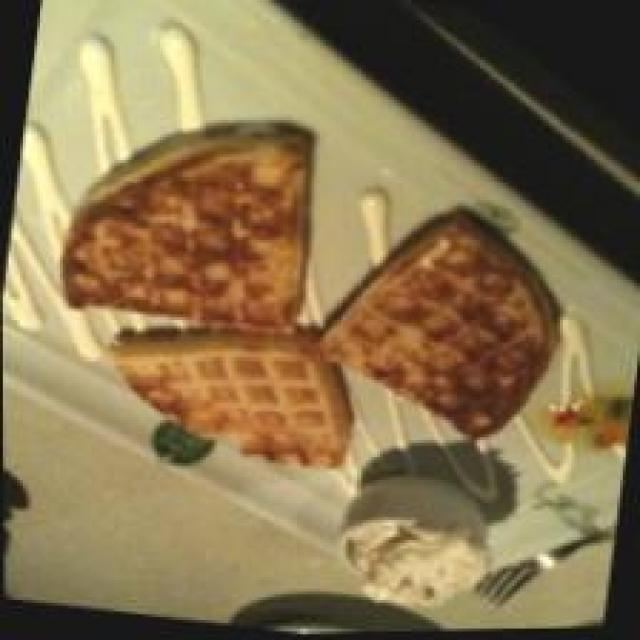Waffles: (26, 84, 577, 513)
